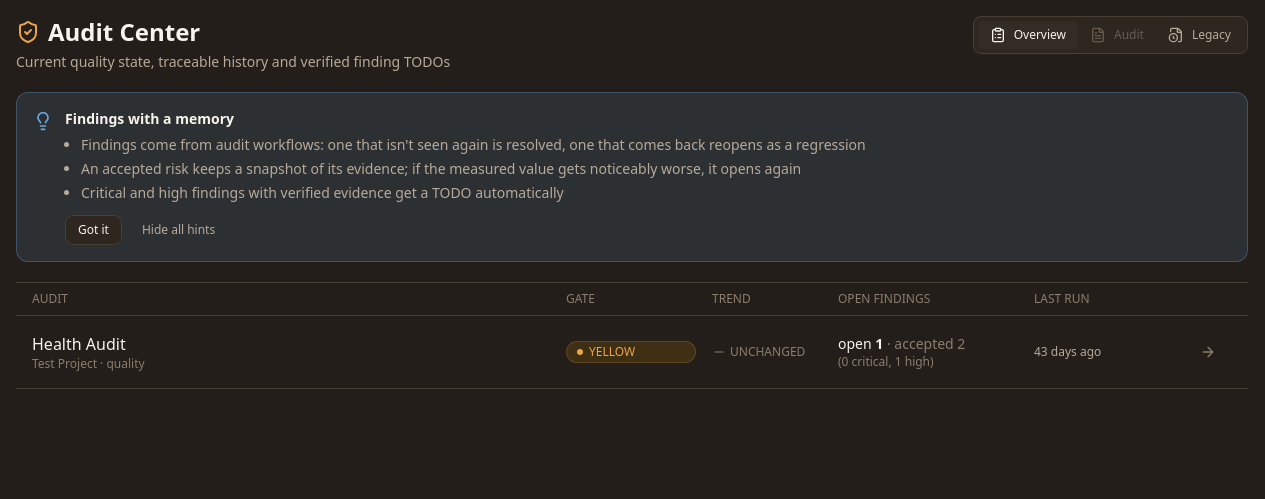
Test: AuditCenter report head › keeps an empty text of an older backend instead of asking again
The width and height of the screenshot is (1265, 499).
What coordinates should you click on to do the following:
click the text "Health Audit"
I would click on:
 (79, 344)
Its box is [32,333,126,355].
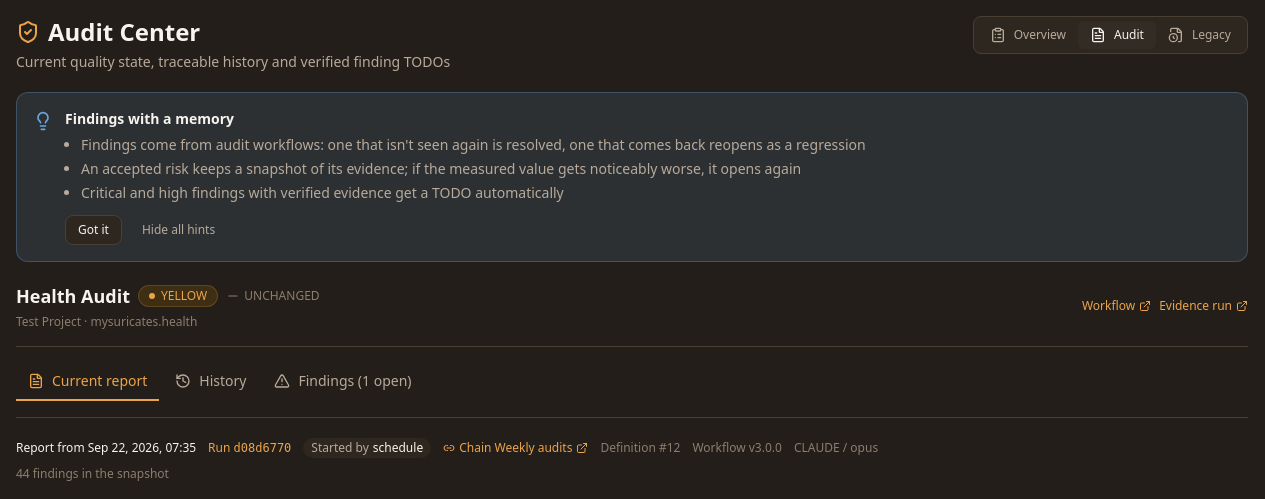
Now the element with test id "report-origin" is shown, box [16,438,878,482]
